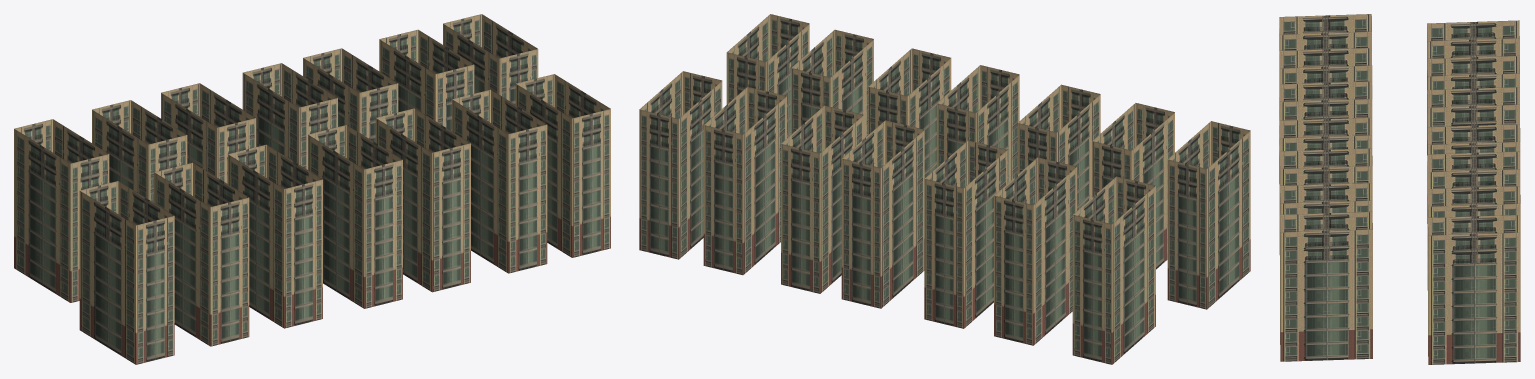
File: build05.FBX
3 renders of one model, left to right at view 1: azimuth 30°, elevation 25°; view 2: azimuth 150°, elevation 25°; view 3: azimuth 270°, elevation 25°, orthographic. The views are drawn at different scales.
Visible parts, largest first — view 1: build05; view 2: build05; view 3: build05.
Part boxes in pixels (x1,y1,x2,y2): build05: (14,14,610,364); build05: (639,14,1250,364); build05: (1279,14,1520,364).
Size of the model in its own units: 5466 by 1491 by 2519.
Materials: 1 (1 with a texture image).
